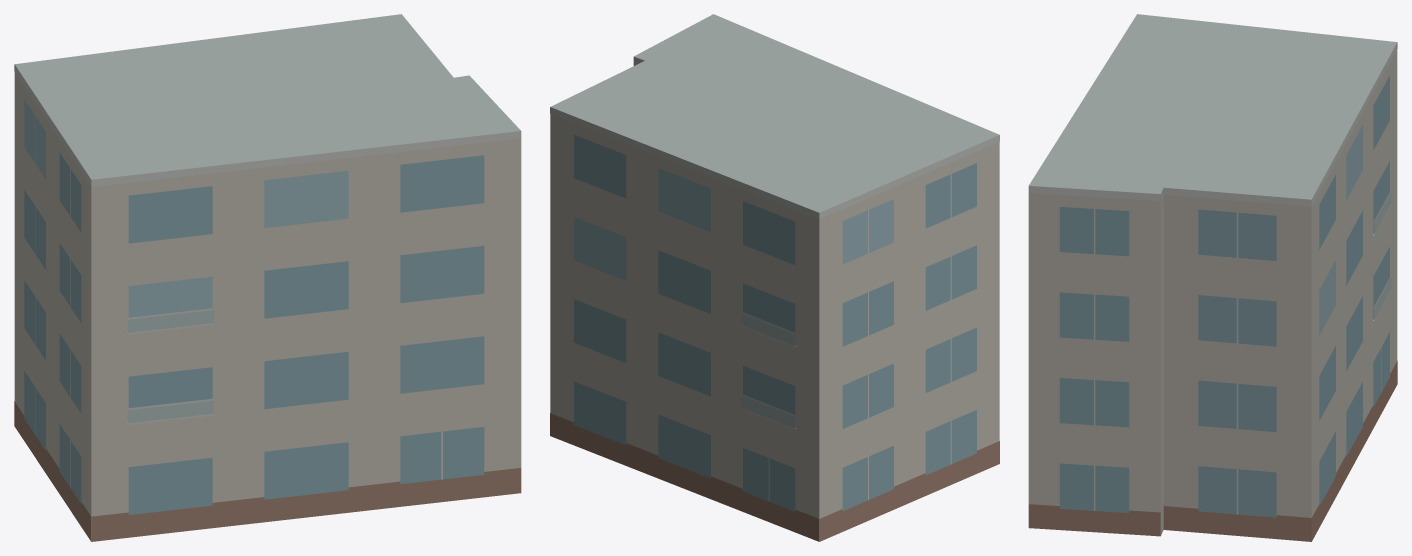
The model's file is survey-upis-32872307.glb.
3 views of the same model, side by side, from view 1: azimuth 30°, elevation 25°; view 2: azimuth 150°, elevation 25°; view 3: azimuth 270°, elevation 25° (orthographic). The views are drawn at different scales.
Visible parts, largest first — view 1: survey-upis-32872307.tmp; view 2: survey-upis-32872307.tmp; view 3: survey-upis-32872307.tmp.
Part boxes in pixels (x1,y1,x2,y2): survey-upis-32872307.tmp: (14,14,521,541); survey-upis-32872307.tmp: (550,14,999,541); survey-upis-32872307.tmp: (1028,14,1397,541).
Bounding box in the file's own units: 13.97 × 12 × 11.73.
